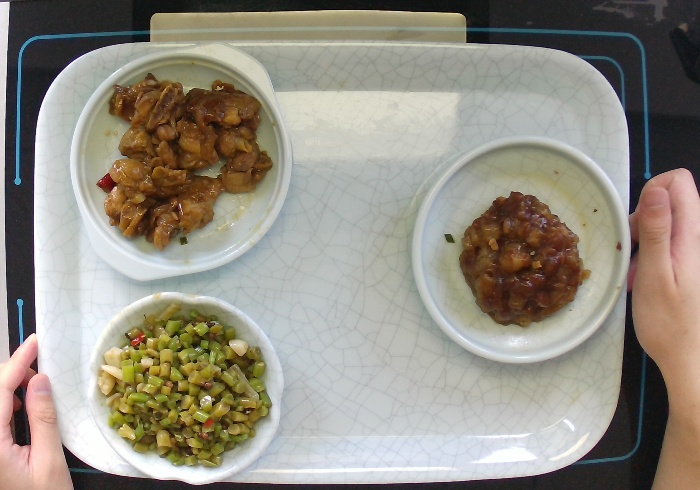JYsf-Ao_Yuan_Wan: (80, 285, 289, 490)
JYsf-Shuang_Er_Pan: (65, 37, 296, 287)
JYsf-Xiao_Yuan_Pan: (408, 132, 636, 371)
